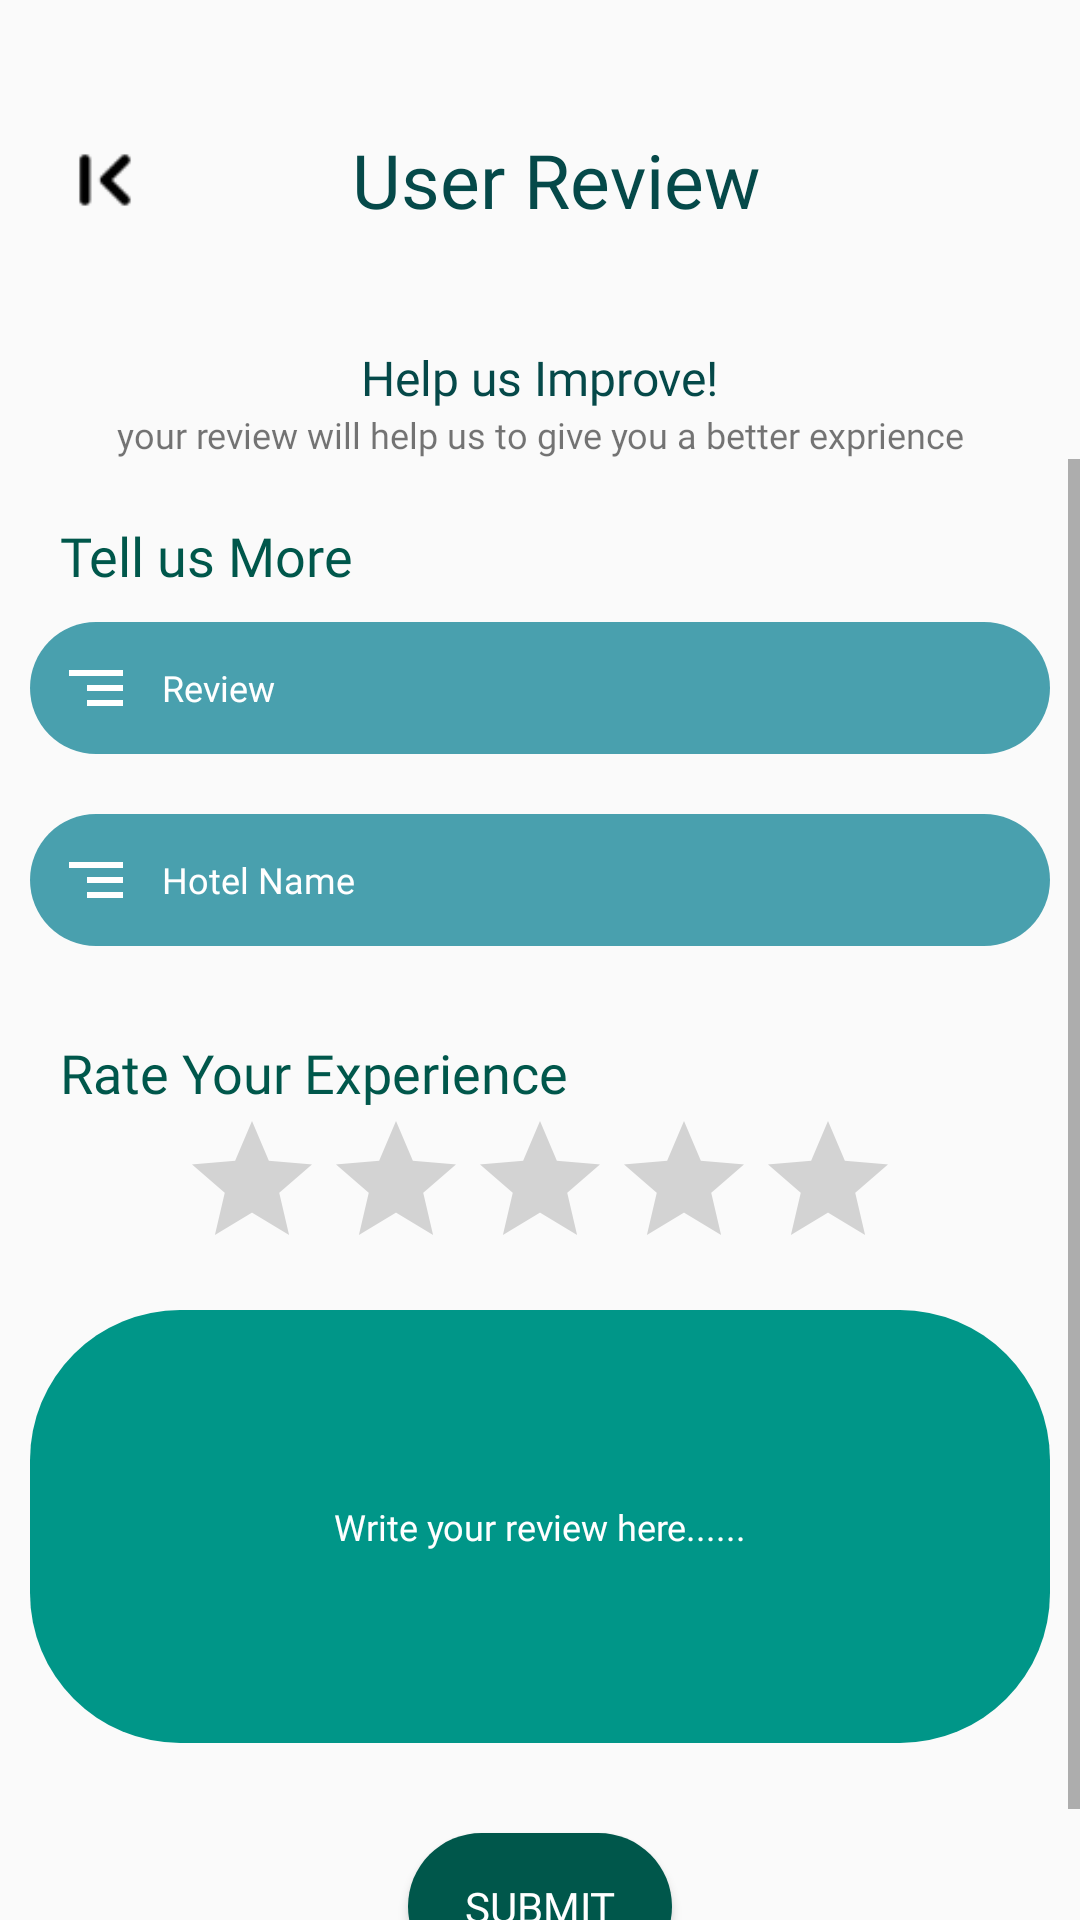

Icon click points for this 1080×1920 phone screenshot, format (x,y):
back: (105,180)
